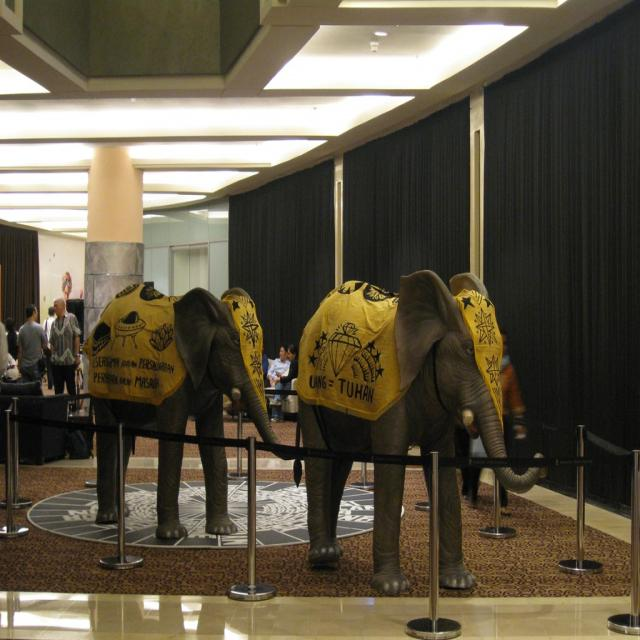elephant: (275, 277, 535, 600), (90, 282, 289, 541), (219, 296, 265, 420)
